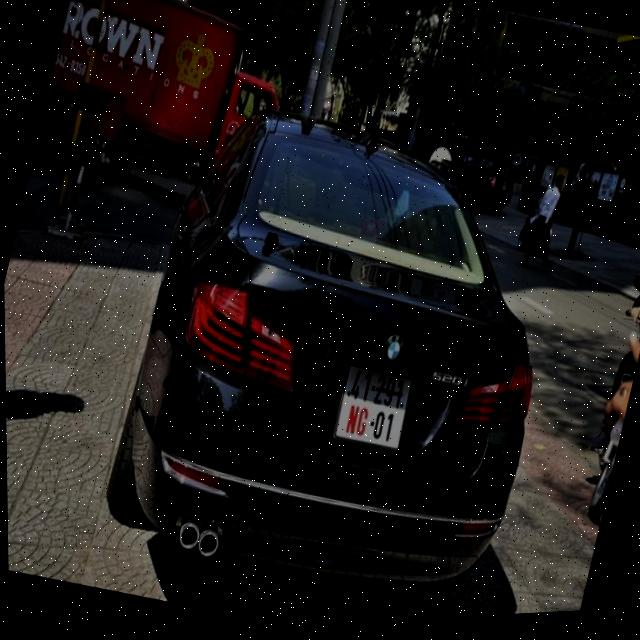car: (77, 68, 591, 636), (25, 0, 318, 237)
plate: (322, 347, 420, 454)
